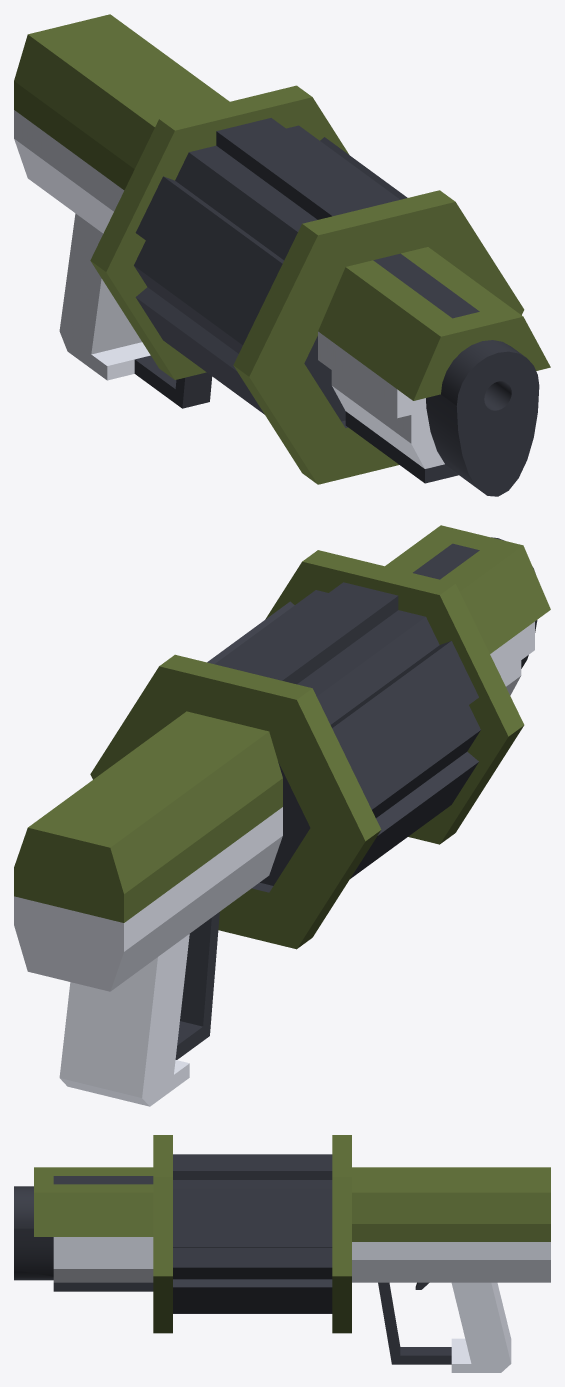
File: Weapon 1.dae
3 views of the same model, one above another, from view 1: azimuth 30°, elevation 25°; view 2: azimuth 150°, elevation 25°; view 3: azimuth 270°, elevation 25° (orthographic). The views are drawn at different scales.
Parts seen in each view (by area): view 1: mergedBlocks; view 2: mergedBlocks; view 3: mergedBlocks.
Part boxes in pixels (x1,y1,x2,y2): mergedBlocks: (14, 14, 550, 496); mergedBlocks: (14, 525, 550, 1106); mergedBlocks: (14, 1135, 550, 1372).
Bounding box in the file's own units: 1 × 1.13 × 2.7.
